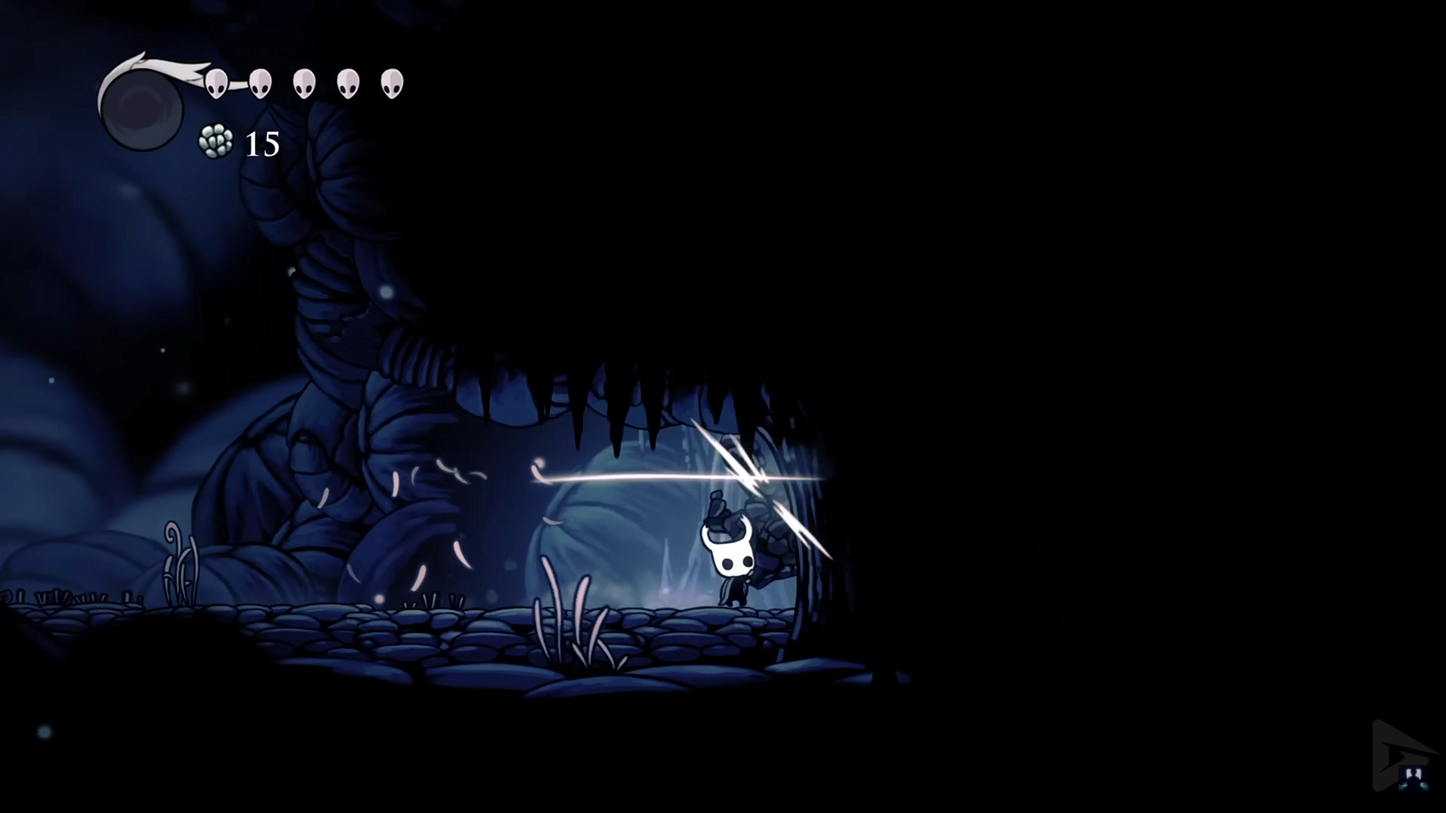HK: (699, 500, 763, 615)
